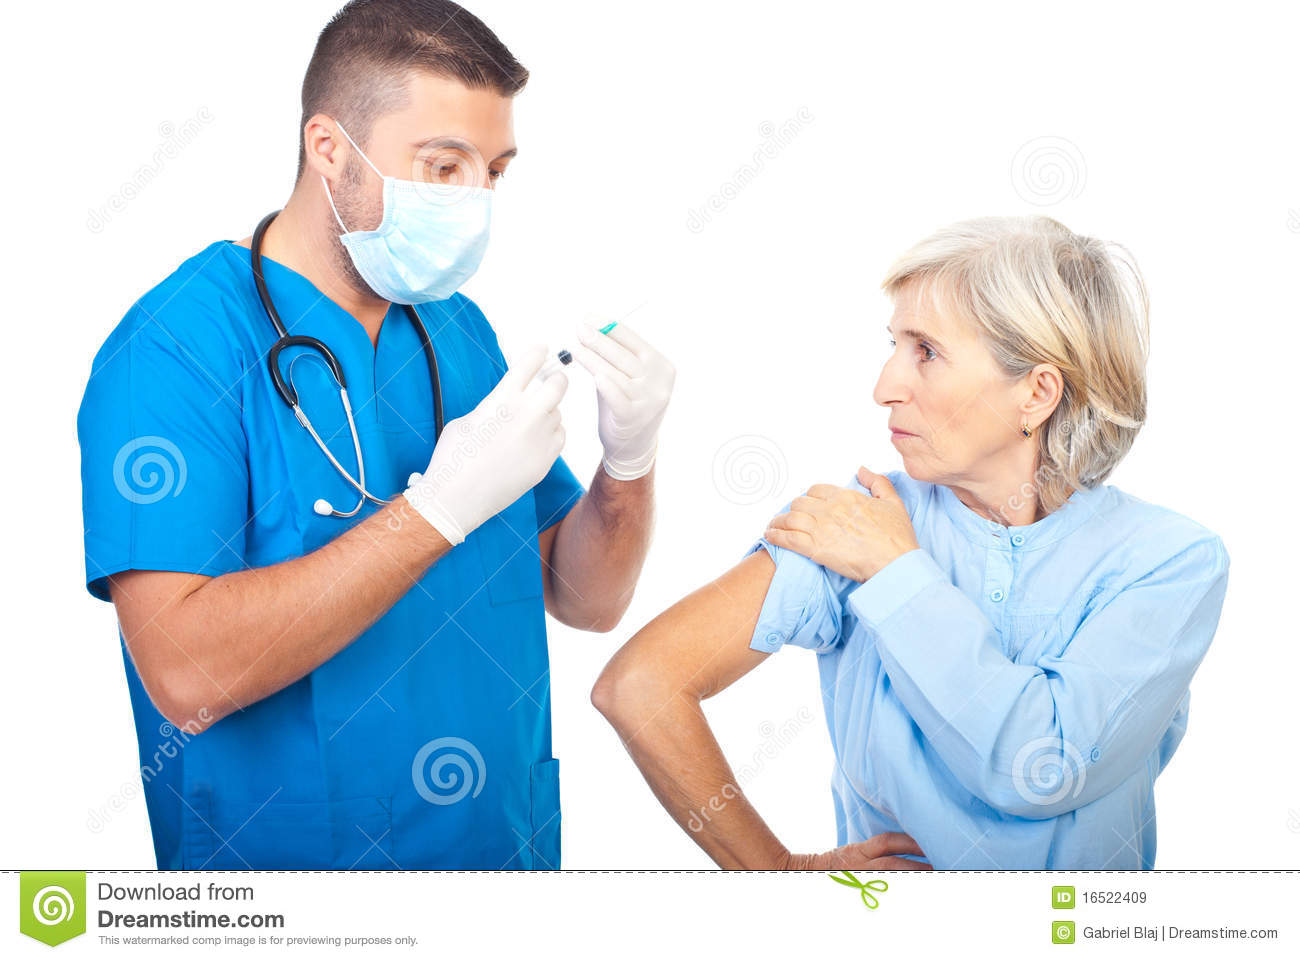mask: (344, 182, 494, 307)
